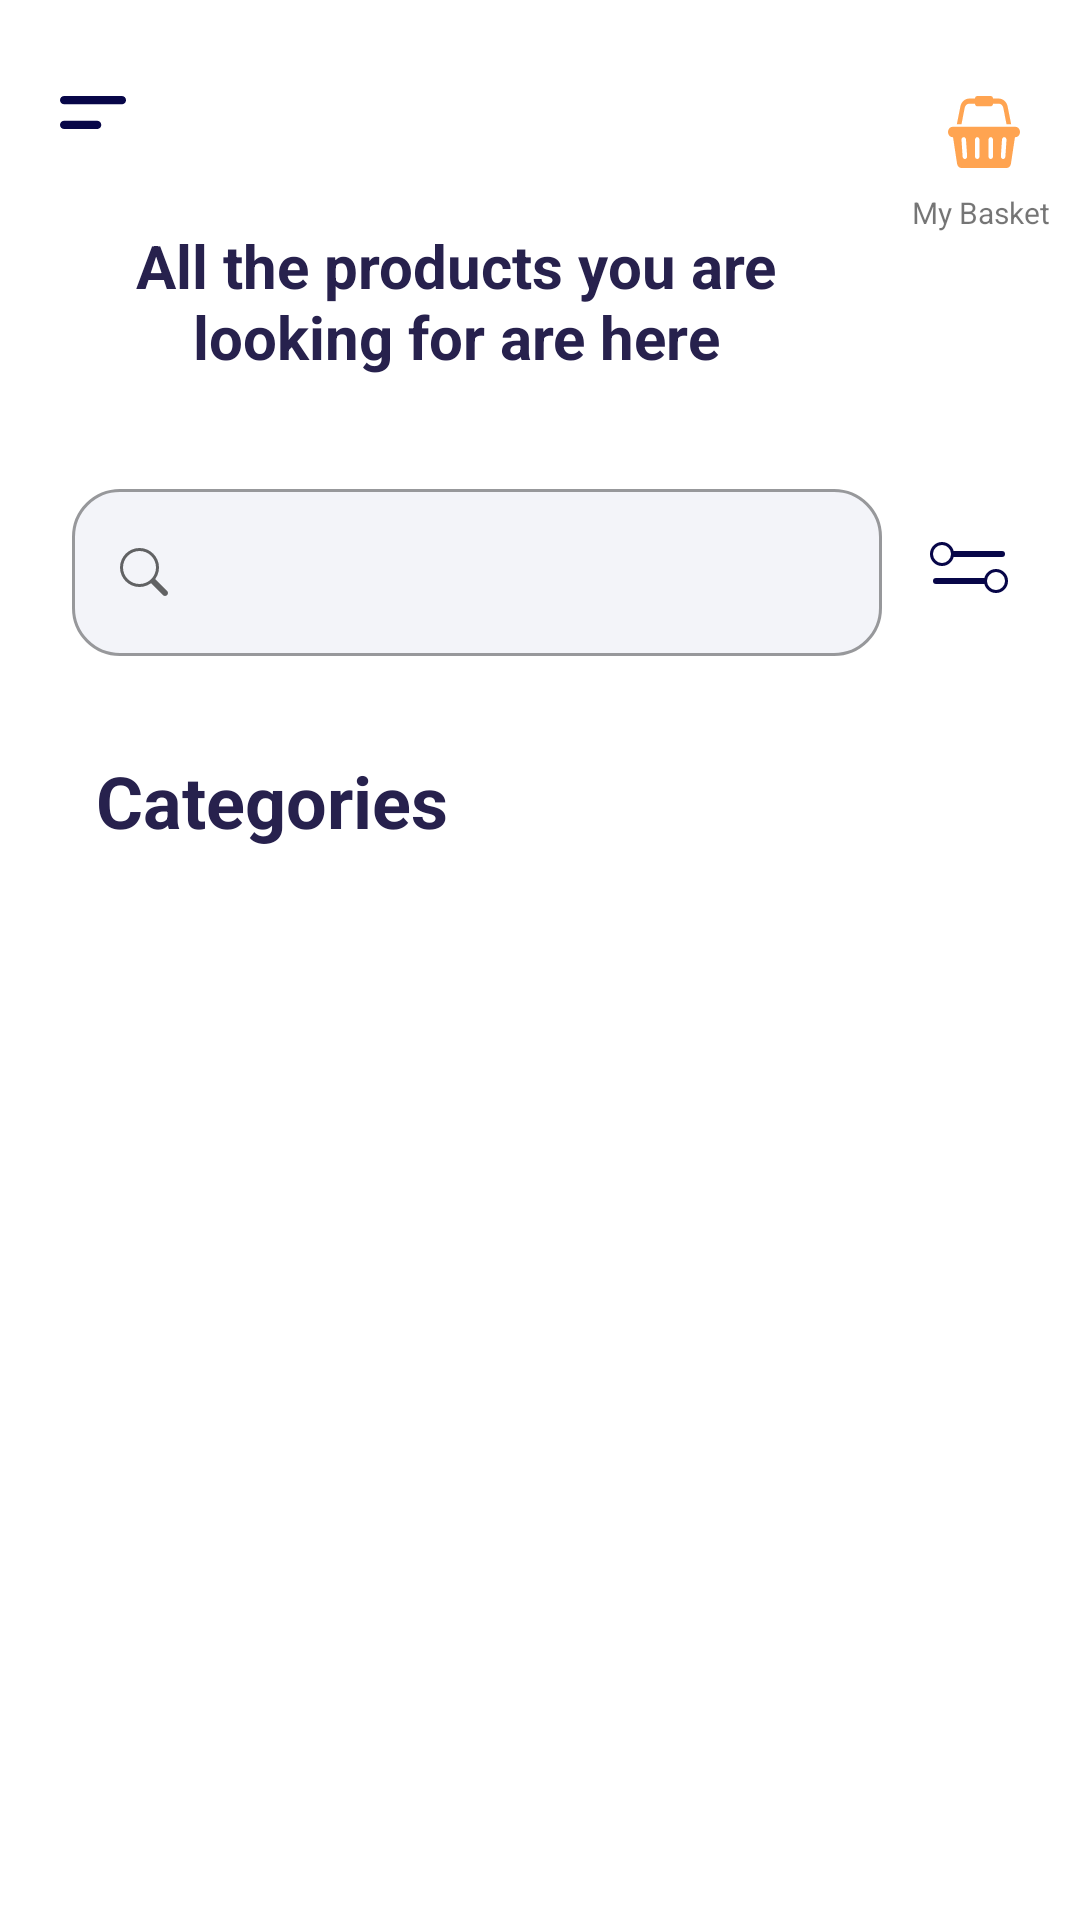

Named icons in this screenshot (1080×1920) and their centers, (x=x, y=y):
menu: (x=93, y=112)
settings: (x=969, y=567)
